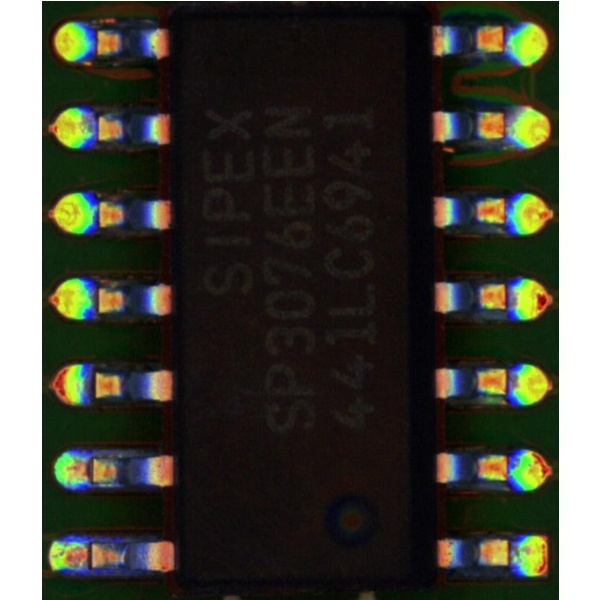Bad_podu: (70, 457, 99, 481), (77, 543, 101, 566)
